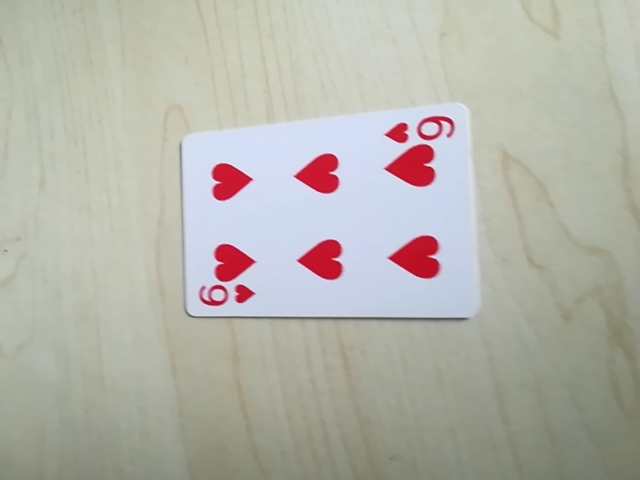hx 6: (384, 110, 455, 148), (196, 283, 259, 315)
